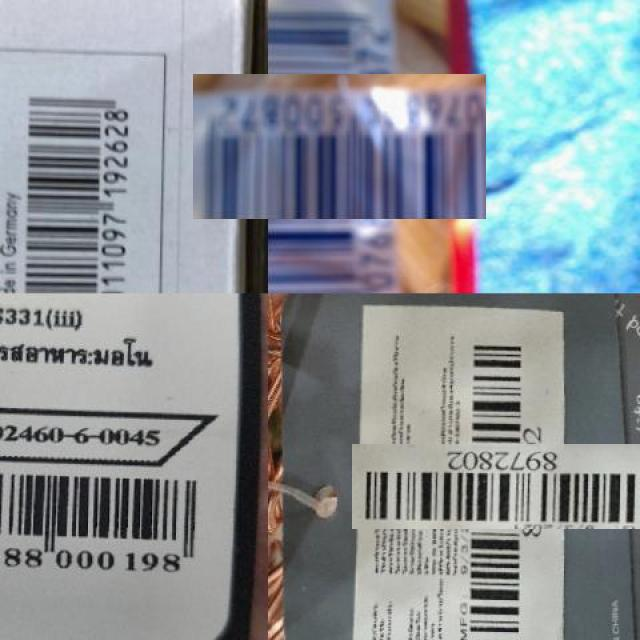Barcode: (230, 37, 450, 256), (407, 388, 605, 584), (16, 75, 148, 293), (0, 461, 216, 575)
